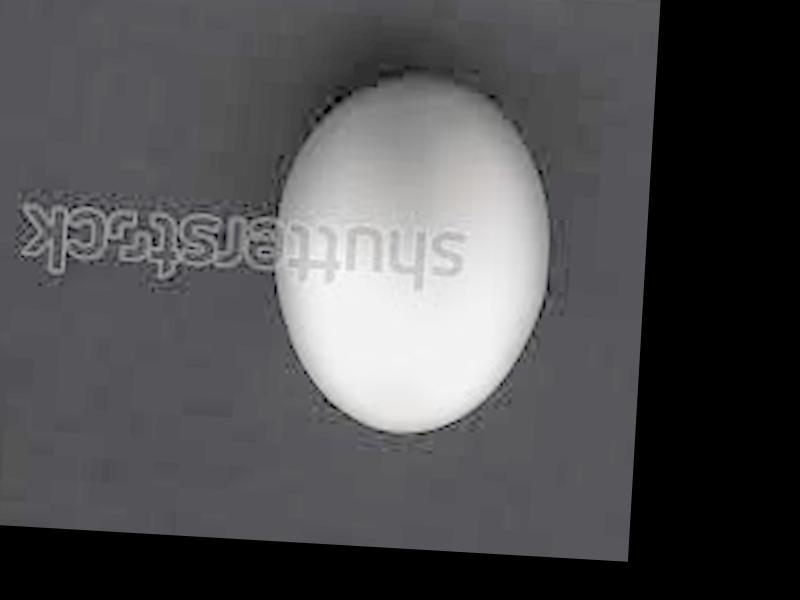Eggs: (272, 73, 560, 444)
